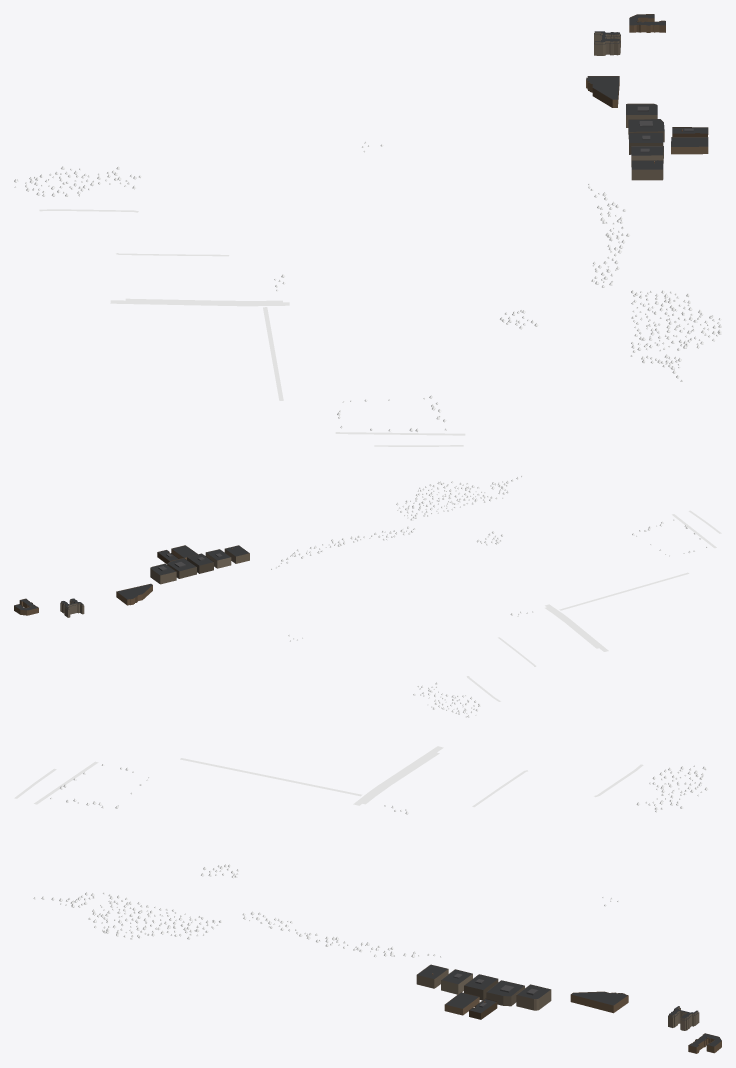
File: manhattan_-03_-01.glb
The picture shows the model from 3 angles, top to bottom: view 1: azimuth 30°, elevation 25°; view 2: azimuth 150°, elevation 25°; view 3: azimuth 270°, elevation 25°; orthographic projection. The views are drawn at different scales.
Parts seen in each view (by area): view 1: BLD_midrise_-03_-01, TREE_-03_-01, BLD_lowrise_-03_-01, ROAD_-03_-01; view 2: BLD_midrise_-03_-01, TREE_-03_-01, BLD_lowrise_-03_-01, ROAD_-03_-01; view 3: BLD_midrise_-03_-01, TREE_-03_-01, BLD_lowrise_-03_-01, ROAD_-03_-01.
Part boxes in pixels (x1,y1,x2,y2): BLD_midrise_-03_-01: (594, 31, 664, 180); TREE_-03_-01: (14, 142, 721, 431); BLD_lowrise_-03_-01: (586, 14, 708, 154); ROAD_-03_-01: (39, 209, 465, 446); BLD_midrise_-03_-01: (60, 545, 249, 617); TREE_-03_-01: (271, 475, 707, 717); BLD_lowrise_-03_-01: (14, 545, 197, 615); ROAD_-03_-01: (466, 510, 721, 701); BLD_midrise_-03_-01: (416, 964, 699, 1030); TREE_-03_-01: (33, 764, 708, 957); BLD_lowrise_-03_-01: (444, 991, 721, 1053); ROAD_-03_-01: (14, 746, 643, 807).
Size of the model in its own units: 2157 by 41.6 by 2096.
